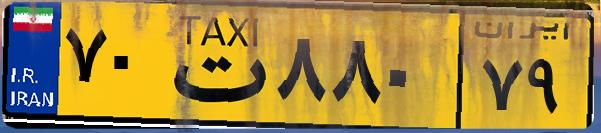0: (385, 28, 445, 110), (110, 28, 158, 98)
7: (57, 26, 110, 100), (475, 38, 525, 113)
8: (270, 28, 330, 110), (330, 28, 385, 110)
9: (525, 38, 570, 115)
ت: (158, 12, 270, 120)
